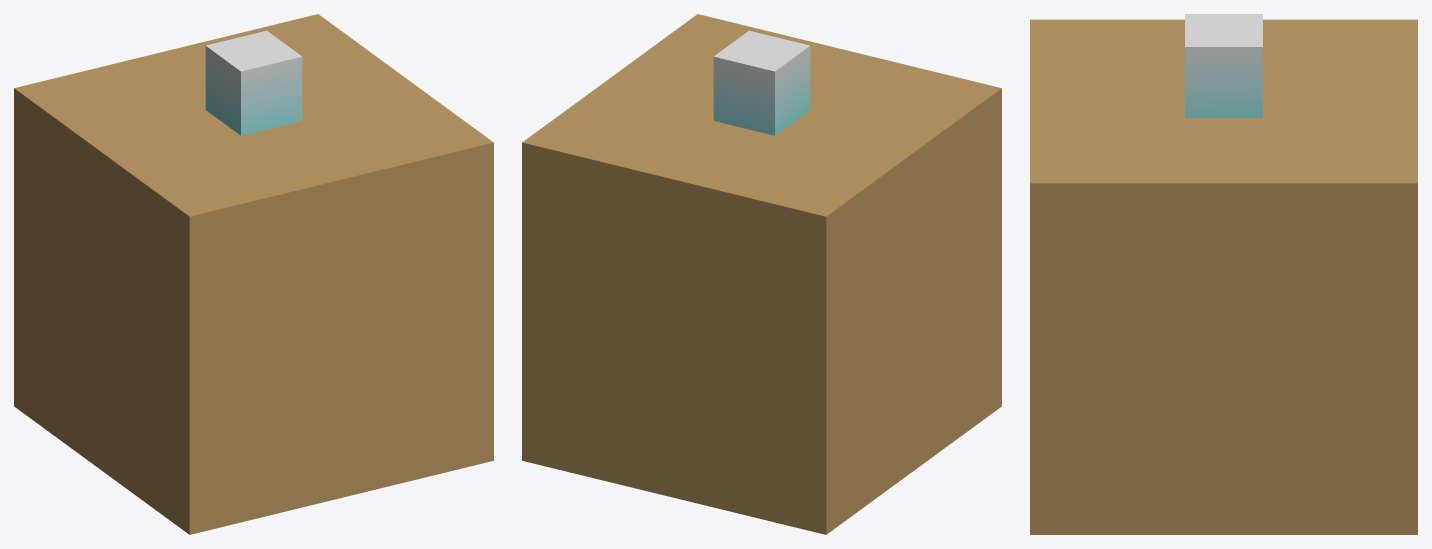
The picture shows the model from 3 angles, left to right: view 1: azimuth 30°, elevation 25°; view 2: azimuth 150°, elevation 25°; view 3: azimuth 270°, elevation 25°; orthographic projection. The views are drawn at different scales.
Parts seen in each view (by area): view 1: cube, square_finial; view 2: cube, square_finial; view 3: cube, square_finial.
Boxes of the visible parts, x1,y1,x2,y2 form: cube: (14, 14, 493, 534); square_finial: (205, 30, 302, 135); cube: (522, 14, 1001, 534); square_finial: (713, 30, 810, 135); cube: (1030, 19, 1417, 534); square_finial: (1185, 14, 1262, 117).
Bounding box in the file's own units: 0.208 × 0.25 × 0.208.
